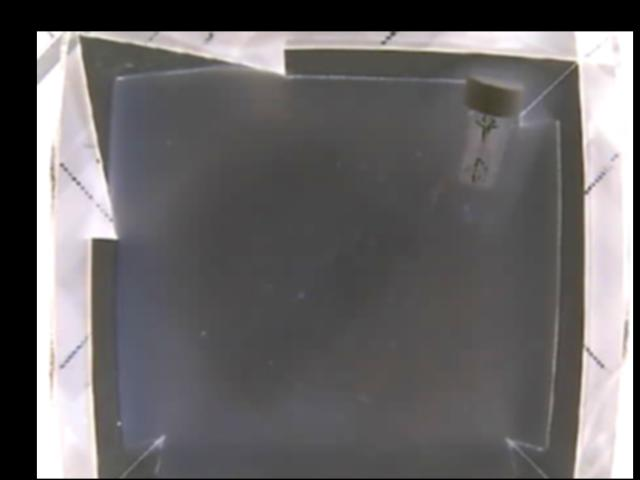Bottle: (456, 76, 523, 191)
